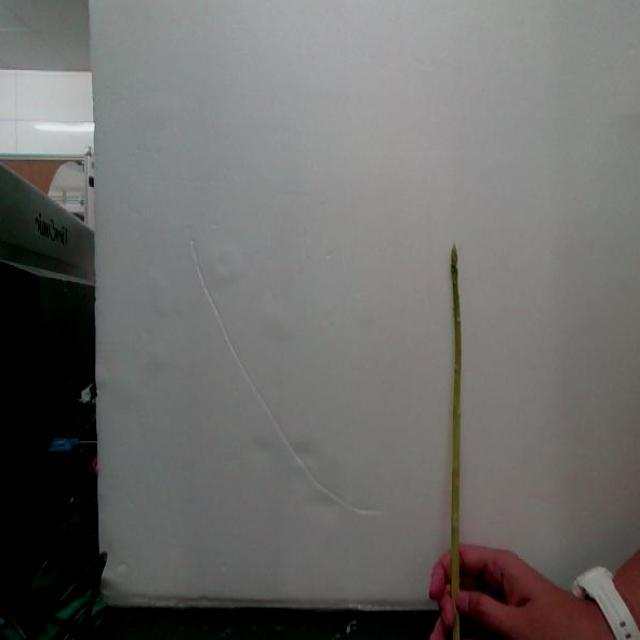aspargus: (447, 245, 462, 640)
